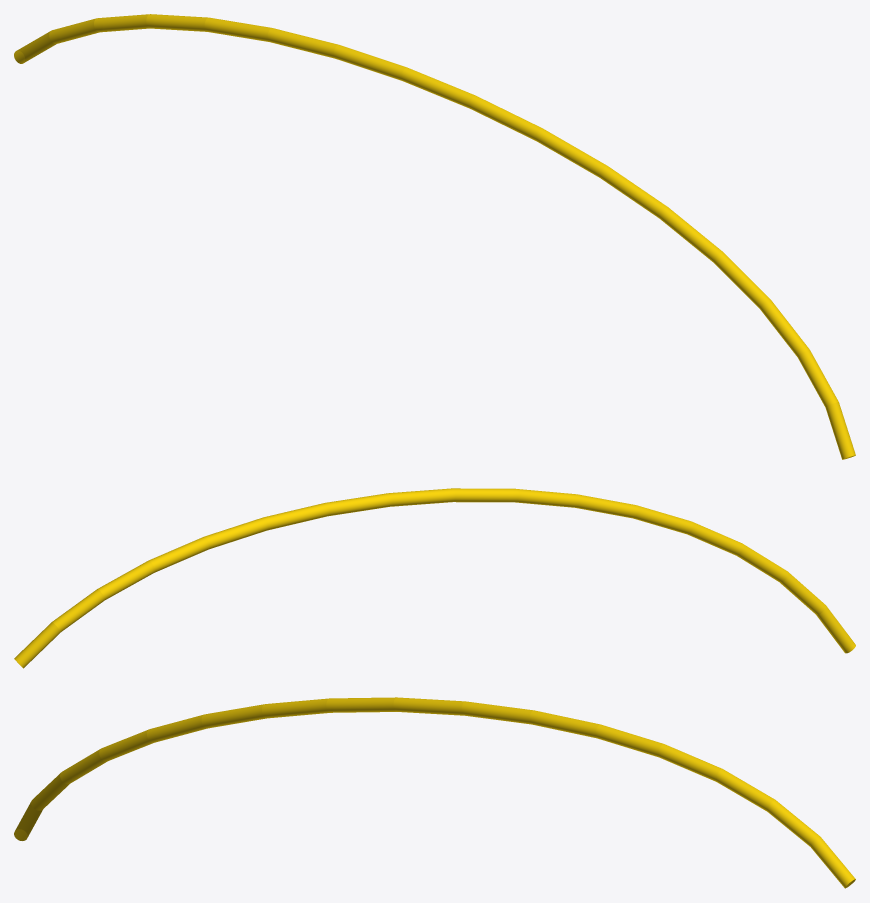
Rendered from Event_420107950_track_17.fbx.
The picture shows the model from 3 angles, top to bottom: view 1: azimuth 90°, elevation 25°; view 2: azimuth 150°, elevation 25°; view 3: azimuth 270°, elevation 25°; orthographic projection. The views are drawn at different scales.
Parts seen in each view (by area): view 1: Model; view 2: Model; view 3: Model.
Boxes of the visible parts, bbox=[...] form: Model: bbox=[14, 14, 855, 459]; Model: bbox=[14, 488, 855, 668]; Model: bbox=[14, 697, 855, 888].
Bounding box in the file's own units: 1.5 × 0.8335 × 2.33.
